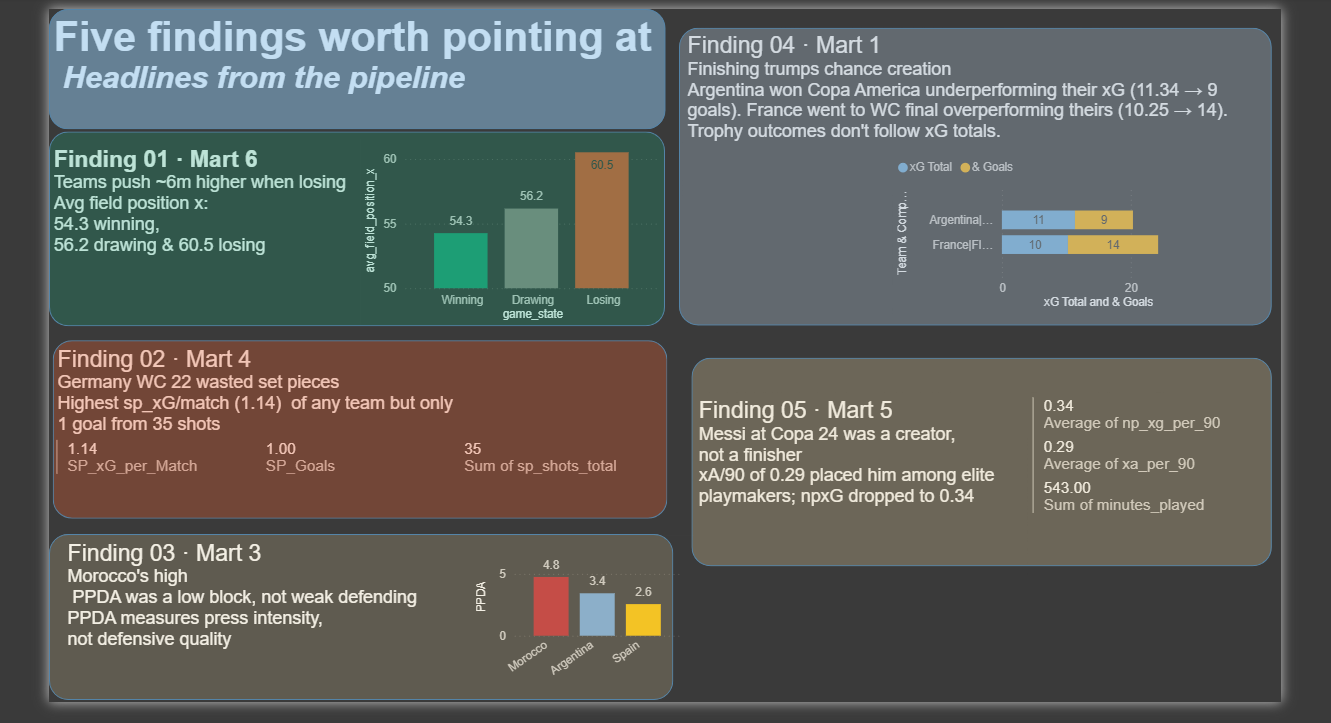

This screenshot's page, from the dashboard's own definition file:
{"tool":"powerbi","page":{"name":"Key Findings","canvas":[1280,720],"ordinal":4},"visuals":[{"type":"textbox","box":[658.5,20,621.5,225.1],"z":0,"group":"g5"},{"type":"textbox","box":[0,137.6,386.4,204.9],"z":0,"group":"g1"},{"type":"textbox","box":[4.1,344.9,640.5,233.1],"z":0,"group":"g2"},{"type":"textbox","box":[669.9,399.1,355.6,192.4],"z":0,"group":"g3"},{"type":"textbox","box":[14.3,547.3,683.1,164.2],"z":0,"group":"g4"},{"type":"clusteredColumnChart","fields":{"Category":["mart_team_gamestate_behavior.game_state"],"Y":["Avg(mart_team_gamestate_behavior.avg_field_position_x)"]},"box":[323.6,135.1,316.4,193.9],"z":1000,"group":"g1"},{"type":"multiRowCard","fields":{"Values":["Avg(mart_player_impact.np_xg_per_90)","Avg(mart_player_impact.xa_per_90)","Sum(mart_player_impact.minutes_played)"]},"box":[1016.3,399.3,225.2,189.6],"z":1000,"group":"g3"},{"type":"multiRowCard","fields":{"Values":["Sum(mart_team_set_piece_effectiveness.sp_xg_per_match)","Sum(mart_team_set_piece_effectiveness.sp_goals)","Sum(mart_team_set_piece_effectiveness.sp_shots_total)"]},"box":[2.9,442,640,105.5],"z":1000,"group":"g2"},{"type":"clusteredColumnChart","fields":{"Y":["Avg(mart_team_defensive_pressure.ppda)"],"Category":["mart_team_defensive_pressure.team_name"]},"box":[438.9,555.9,223.1,149.5],"z":1000,"group":"g4"},{"type":"textbox","box":[0,0,640.5,104.3],"z":2000},{"type":"group","id":"g1","title":"Group 1","box":[0,135.1,640,207.4],"z":3000},{"type":"shape","box":[0,0,640.5,125.2],"z":4000},{"type":"shape","box":[0,126.9,640,202.4],"z":5000},{"type":"group","id":"g2","title":"Group 2","box":[2.9,344.9,641.4,233.8],"z":6000},{"type":"shape","box":[4.3,343.5,638.6,185.3],"z":7000},{"type":"group","id":"g3","title":"Group 6","box":[669.9,399.1,571.6,192.4],"z":7014,"group":"g6"},{"type":"group","id":"g4","title":"Group 3","box":[14.3,547.3,682.8,163.9],"z":8000},{"type":"shape","box":[0,545.9,648.6,172.5],"z":9000},{"type":"group","id":"g5","title":"Group 4","box":[658.5,20,621.5,225.1],"z":10000,"group":"g7"},{"type":"group","id":"g6","title":"Group 5","box":[669.9,399.1,571.6,192.4],"z":12000,"group":"g8"},{"type":"barChart","fields":{"Y":["Avg(mart_team_attack_quality.xg_total)","Avg(mart_team_attack_quality.goals)"],"Category":["mart_team_attack_quality.team_comp_key"]},"box":[877.3,145.5,326.4,171],"z":13001,"group":"g7"},{"type":"group","id":"g7","title":"Group 7","box":[658.5,20,621.5,296.5],"z":13002},{"type":"group","id":"g8","title":"Group 8","box":[669.9,399.1,571.6,192.4],"z":13003},{"type":"shape","box":[667.1,362,602.9,216.7],"z":13004},{"type":"shape","box":[654.3,20,615.8,309.3],"z":13005}]}

Visuals, with their boxes on the page's 1280x720 design canvas (x1, y1, x2, y2). These are canvas units, not pixel positions in the 1331x723 screenshot, which may show the page scaled, cropped or inside an application window:
textbox: box=[658, 20, 1280, 245]
textbox: box=[0, 138, 386, 342]
textbox: box=[4, 345, 645, 578]
textbox: box=[670, 399, 1026, 592]
textbox: box=[14, 547, 697, 712]
clusteredColumnChart - mart_team_gamestate_behavior.game_state x Avg(mart_team_gamestate_behavior.avg_field_position_x): box=[324, 135, 640, 329]
multiRowCard - Avg(mart_player_impact.np_xg_per_90) x Avg(mart_player_impact.xa_per_90): box=[1016, 399, 1242, 589]
multiRowCard - Sum(mart_team_set_piece_effectiveness.sp_xg_per_match) x Sum(mart_team_set_piece_effectiveness.sp_goals): box=[3, 442, 643, 548]
clusteredColumnChart - Avg(mart_team_defensive_pressure.ppda) x mart_team_defensive_pressure.team_name: box=[439, 556, 662, 705]
textbox: box=[0, 0, 640, 104]
"Group 1" group: box=[0, 135, 640, 342]
shape: box=[0, 0, 640, 125]
shape: box=[0, 127, 640, 329]
"Group 2" group: box=[3, 345, 644, 579]
shape: box=[4, 344, 643, 529]
"Group 6" group: box=[670, 399, 1242, 592]
"Group 3" group: box=[14, 547, 697, 711]
shape: box=[0, 546, 649, 718]
"Group 4" group: box=[658, 20, 1280, 245]
"Group 5" group: box=[670, 399, 1242, 592]
barChart - Avg(mart_team_attack_quality.xg_total) x Avg(mart_team_attack_quality.goals): box=[877, 146, 1204, 316]
"Group 7" group: box=[658, 20, 1280, 316]
"Group 8" group: box=[670, 399, 1242, 592]
shape: box=[667, 362, 1270, 579]
shape: box=[654, 20, 1270, 329]
